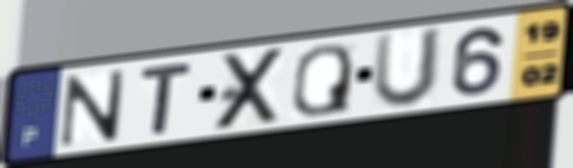6: (450, 24, 508, 98)
N: (56, 67, 129, 150)
Q: (289, 42, 354, 119)
T: (137, 59, 196, 137)
U: (368, 24, 448, 111)
X: (210, 44, 291, 134)
